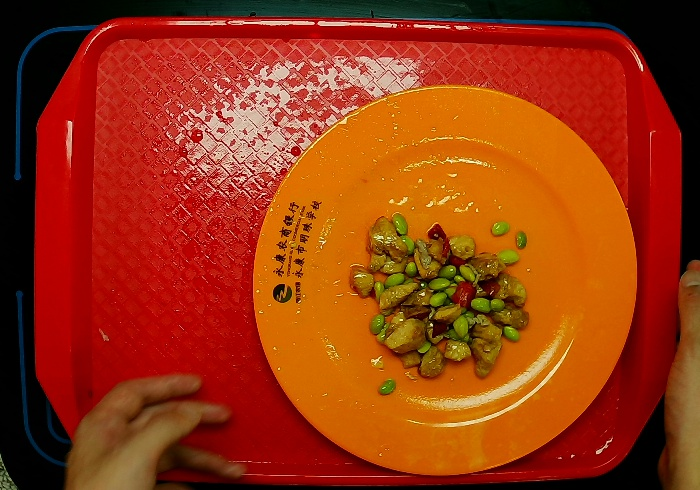YKMZ-Ju_Se_Mian_Pan: (249, 82, 641, 478)
